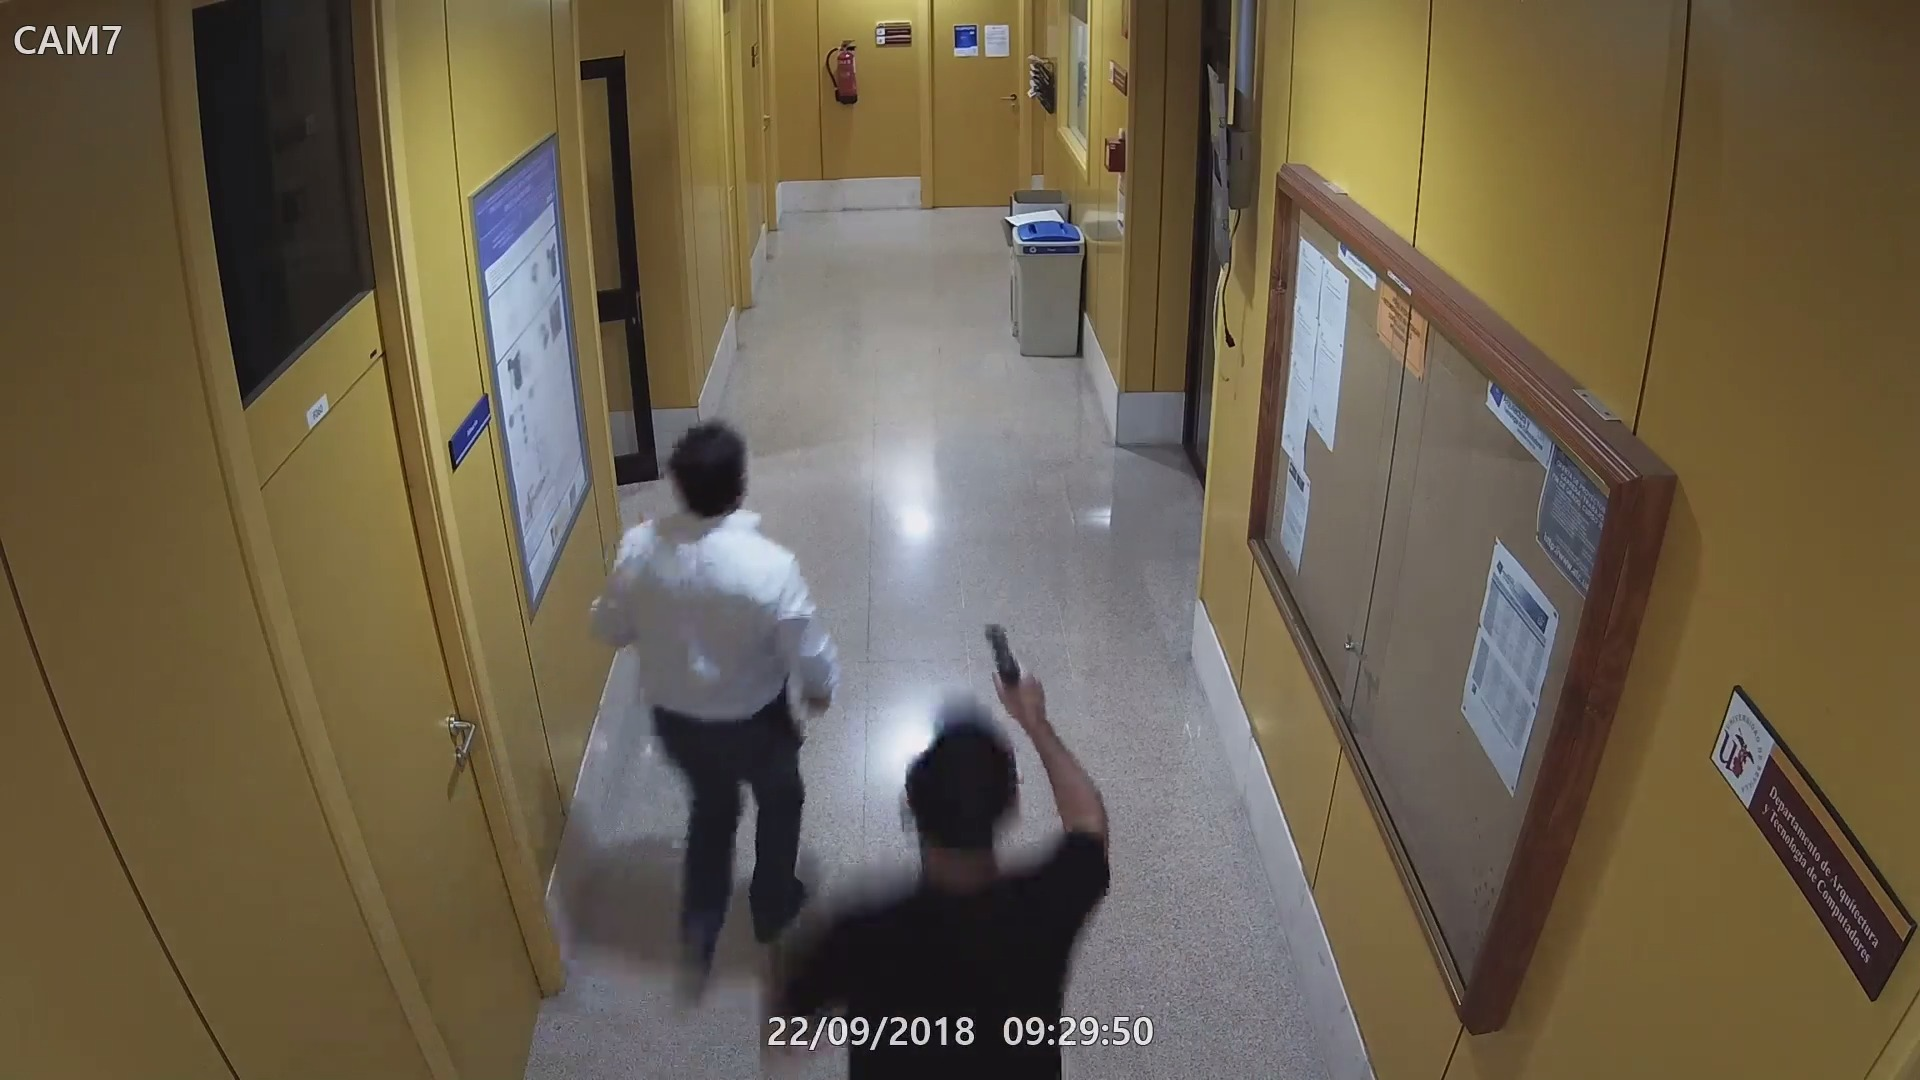Handgun: (977, 613, 1044, 721)
